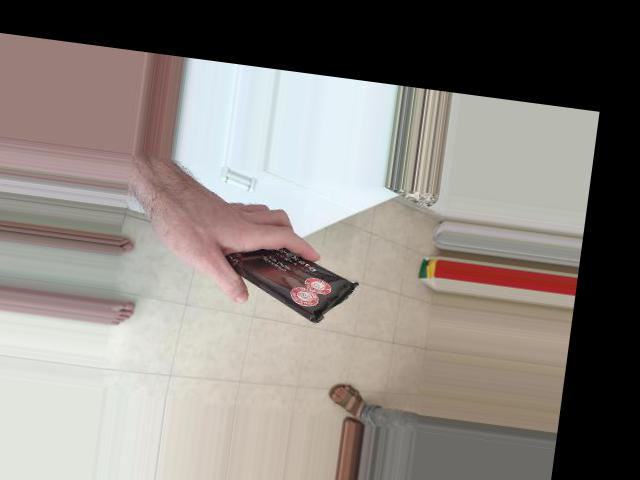chocolate: (199, 226, 366, 331)
